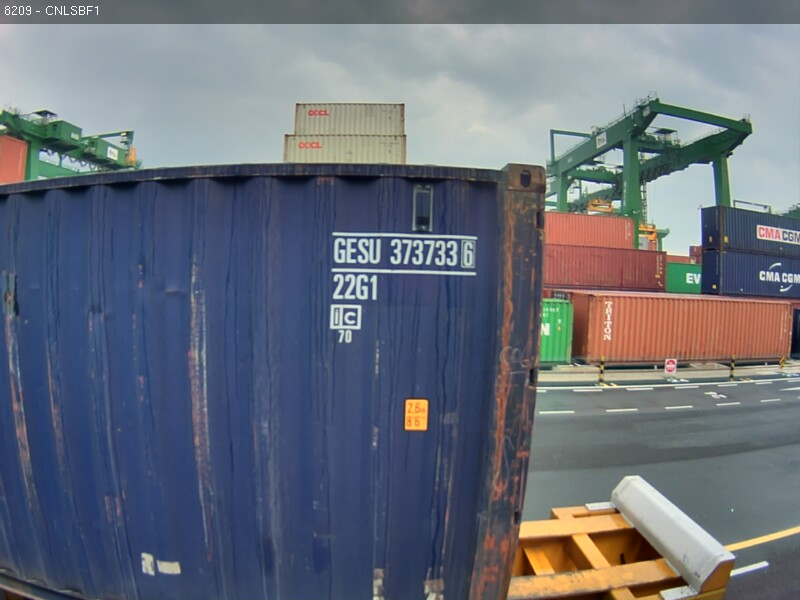container_no_door: (46, 148, 552, 593)
